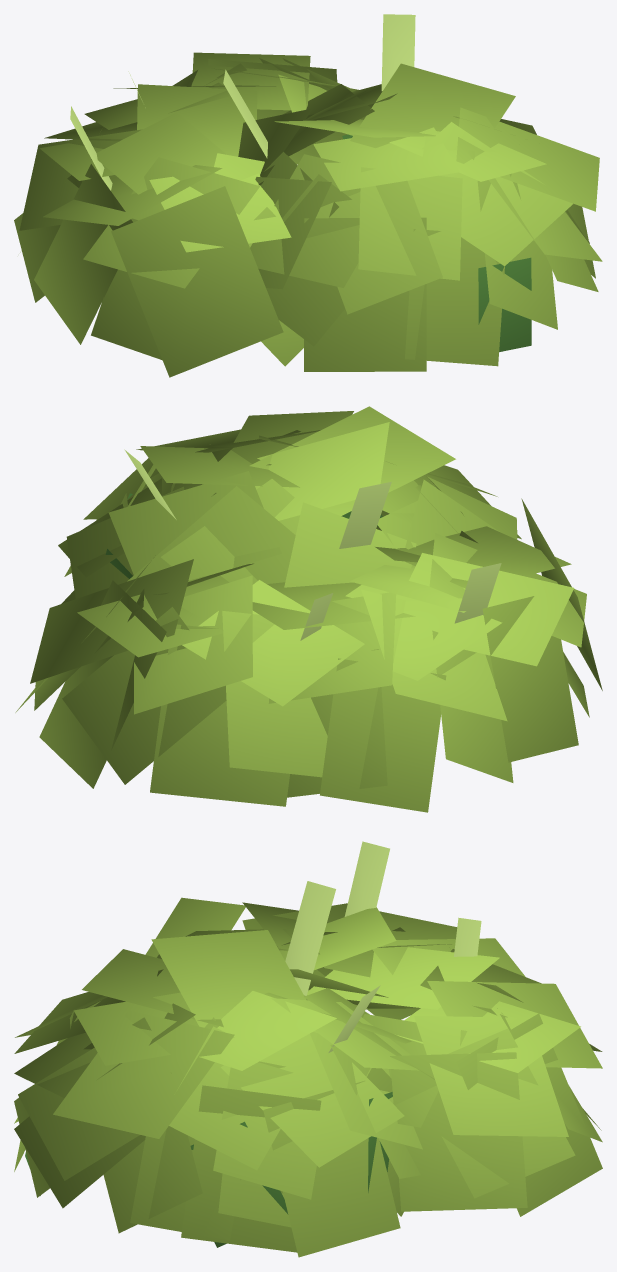
The model's file is plant_groundcover_1_lod1.glb.
3 views of the same model, one above another, from view 1: azimuth 30°, elevation 25°; view 2: azimuth 150°, elevation 25°; view 3: azimuth 270°, elevation 25° (orthographic). The views are drawn at different scales.
Parts seen in each view (by area): view 1: plant_groundcover_1; view 2: plant_groundcover_1; view 3: plant_groundcover_1.
Boxes of the visible parts, x1,y1,x2,y2 form: plant_groundcover_1: (14,14,602,377); plant_groundcover_1: (15,406,602,812); plant_groundcover_1: (14,841,602,1257).
Bounding box in the file's own units: 1.4 × 0.6147 × 1.47.
